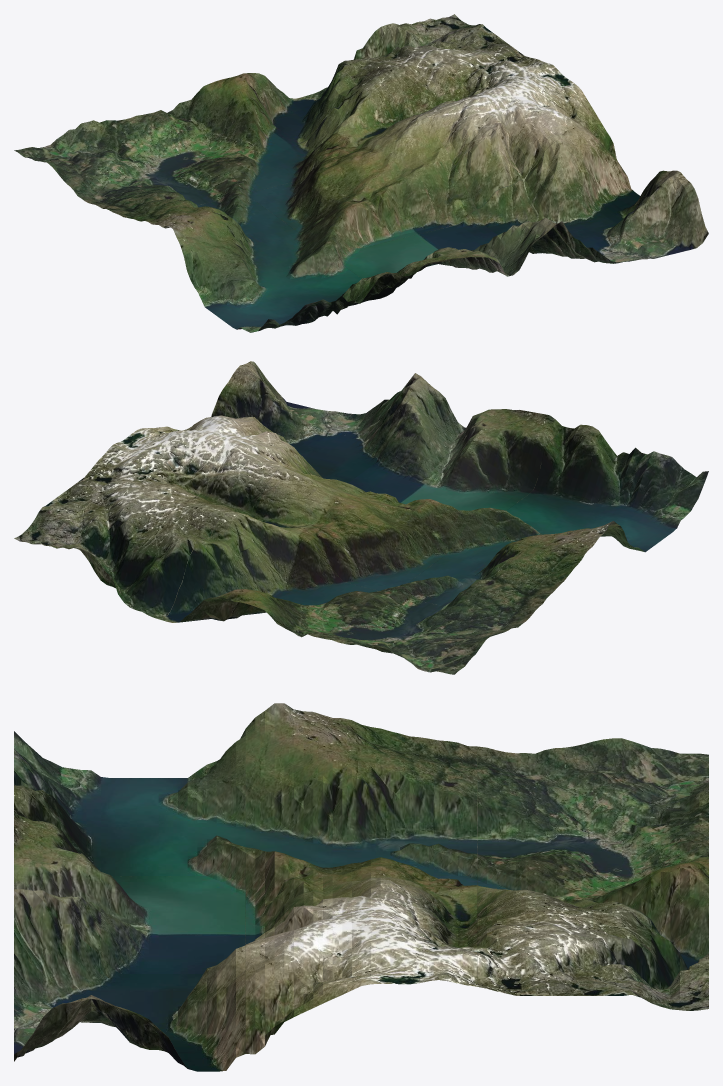
3 renders of one model, top to bottom at view 1: azimuth 30°, elevation 25°; view 2: azimuth 150°, elevation 25°; view 3: azimuth 270°, elevation 25°, orthographic. The views are drawn at different scales.
Visible parts, largest first — view 1: Layer 01; view 2: Layer 01; view 3: Layer 01.
Part boxes in pixels (x1=…): Layer 01: x1=14, y1=14, x2=708, y2=332; Layer 01: x1=14, y1=361, x2=708, y2=674; Layer 01: x1=14, y1=703, x2=708, y2=1071.
Size of the model in its own units: 0.402 by 0.0674 by 0.402.
Materials: 1 (1 with a texture image).
